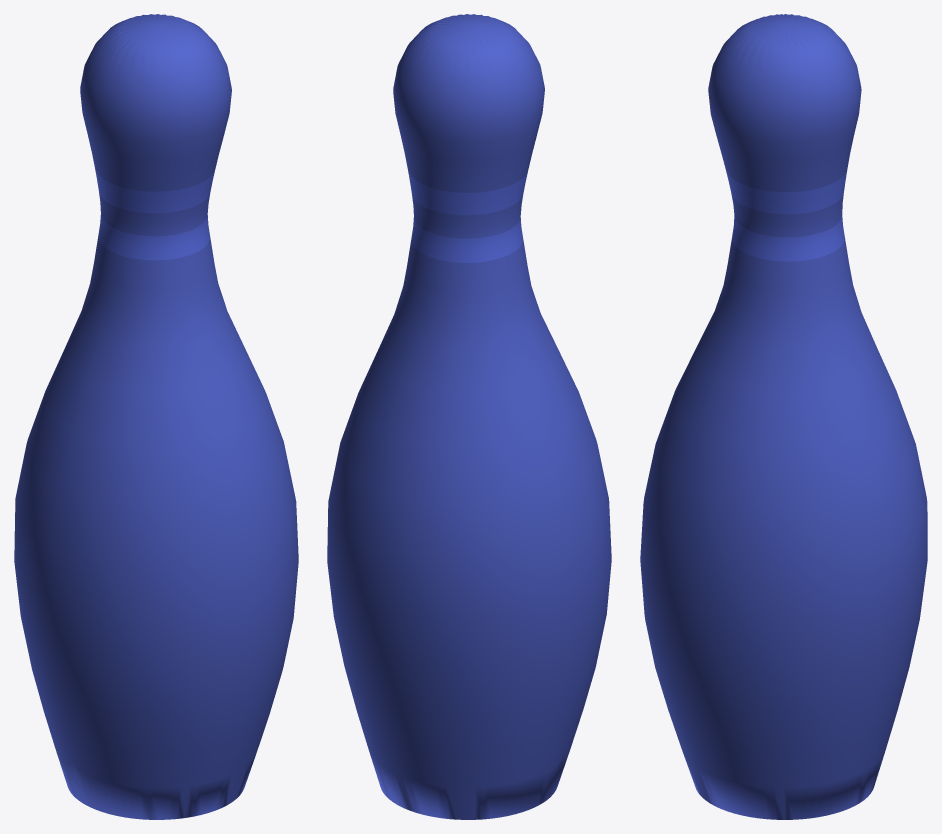
The model's file is Lead Pin.fbx.
3 views of the same model, side by side, from view 1: azimuth 30°, elevation 25°; view 2: azimuth 150°, elevation 25°; view 3: azimuth 270°, elevation 25° (orthographic).
Visible parts, largest first — view 1: Lead Pin; view 2: Lead Pin; view 3: Lead Pin.
Boxes of the visible parts, bbox=[...] form: Lead Pin: bbox=[14, 14, 298, 819]; Lead Pin: bbox=[327, 14, 611, 819]; Lead Pin: bbox=[640, 14, 927, 819].
Bounding box in the file's own units: 131 × 387 × 133.
Materials: 1 (1 with a texture image).
